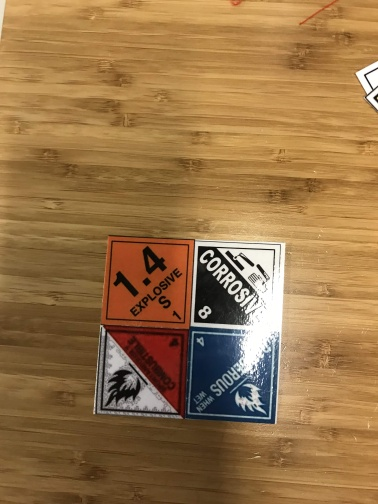Corrosive: (190, 240, 279, 329)
DangerousWhenWet: (187, 327, 278, 424)
Explosive: (101, 235, 195, 328)
SpontaneouslyCombustible: (94, 324, 186, 419)
